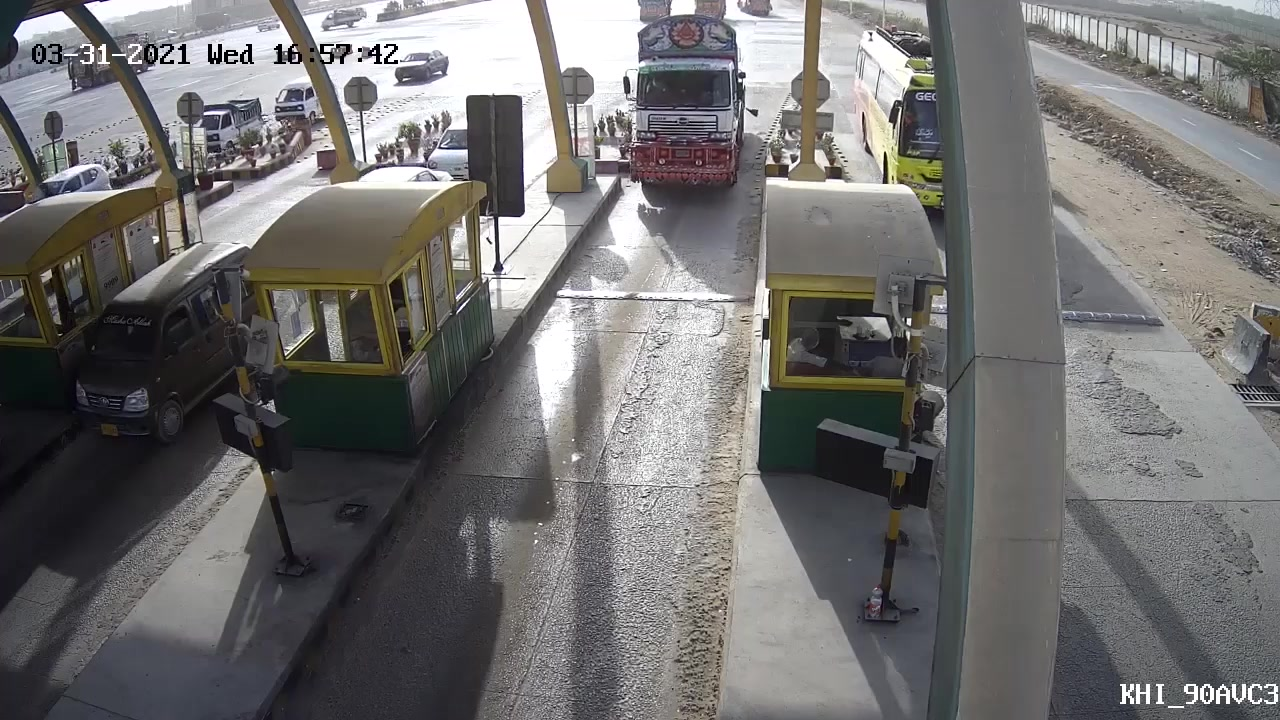F5: (612, 13, 751, 201)
